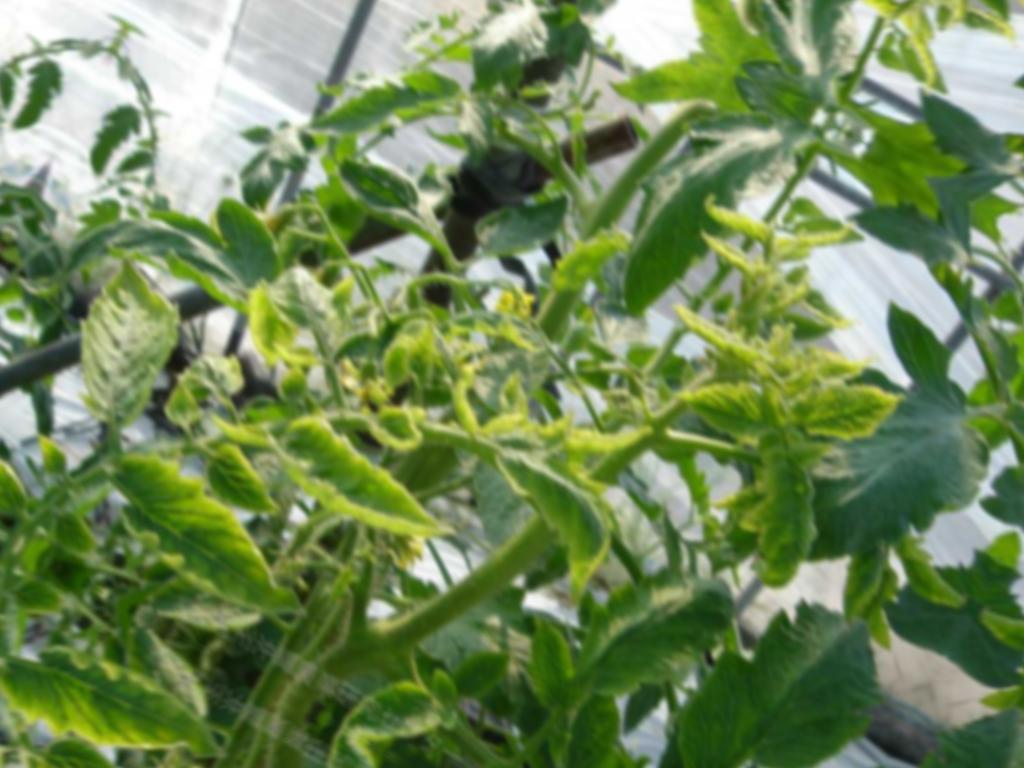Tomato leaf yellow virus: (77, 437, 340, 644), (29, 238, 232, 461), (245, 395, 480, 574), (464, 428, 651, 607), (707, 434, 857, 598), (319, 645, 467, 768), (784, 347, 912, 476), (217, 260, 332, 383), (670, 356, 791, 468)
